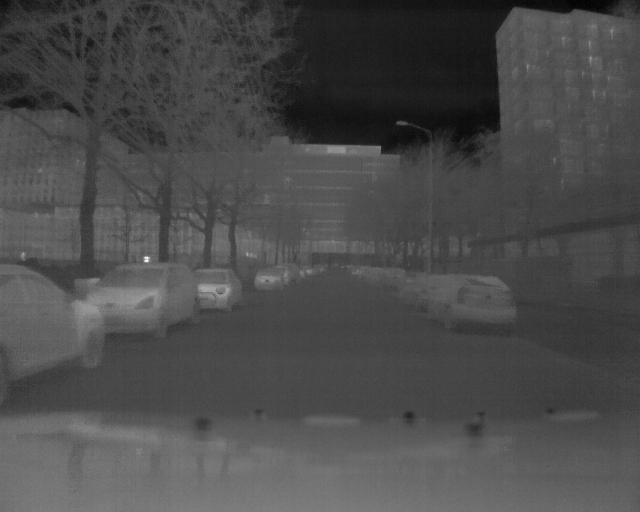car: (1, 258, 108, 384), (83, 262, 205, 339), (421, 275, 519, 334), (189, 266, 244, 311), (255, 265, 287, 290)
